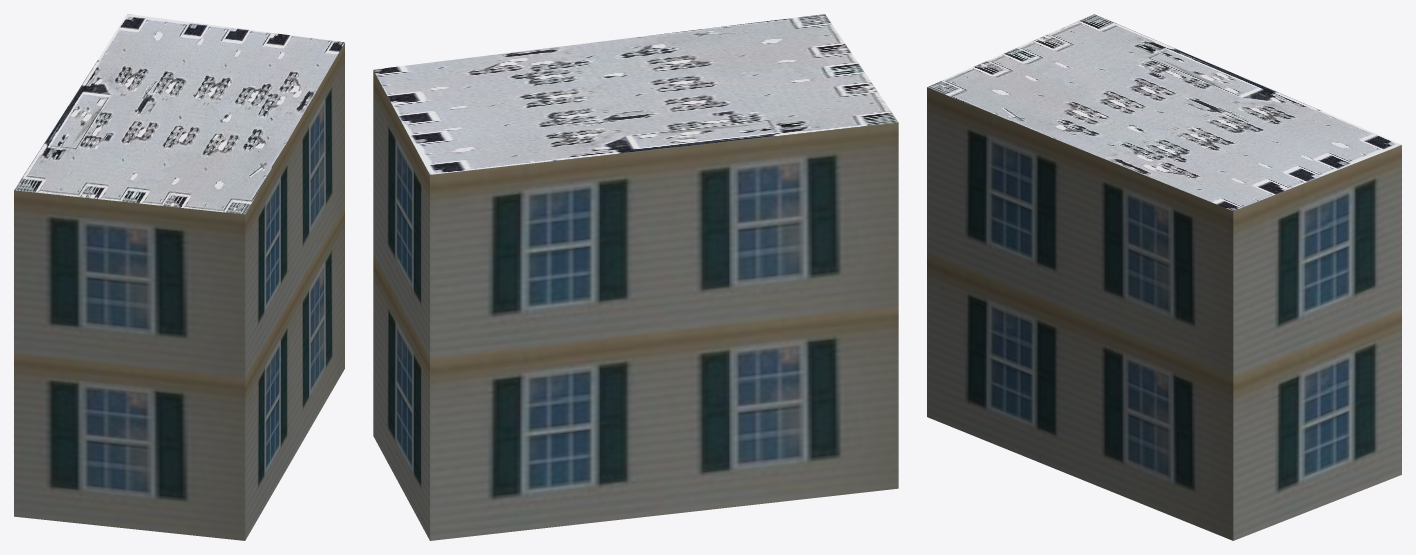
Rendered from ResTex__5.fbx.
3 renders of one model, left to right at view 1: azimuth 30°, elevation 25°; view 2: azimuth 150°, elevation 25°; view 3: azimuth 270°, elevation 25°, orthographic. The views are drawn at different scales.
Parts seen in each view (by area): view 1: CityEngineMaterial_7_m, CityEngineMaterial_4_m; view 2: CityEngineMaterial_7_m, CityEngineMaterial_4_m; view 3: CityEngineMaterial_7_m, CityEngineMaterial_4_m.
Boxes of the visible parts, bbox=[...] form: CityEngineMaterial_7_m: bbox=[14, 43, 344, 540]; CityEngineMaterial_4_m: bbox=[14, 14, 344, 214]; CityEngineMaterial_7_m: bbox=[373, 70, 898, 540]; CityEngineMaterial_4_m: bbox=[373, 14, 898, 174]; CityEngineMaterial_7_m: bbox=[927, 87, 1401, 540]; CityEngineMaterial_4_m: bbox=[927, 14, 1401, 210].
Size of the model in its own units: 7.69 by 6 by 7.83.
Materials: 2 (2 with a texture image).
